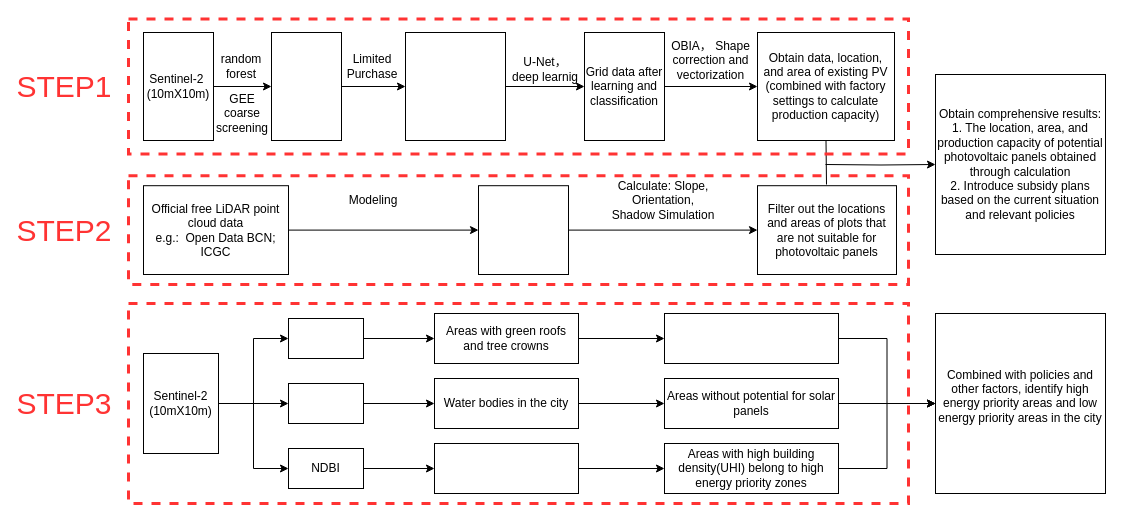
Image size: 1123x522. Some labels were removed from this diagram. The shapes that lost their labels are listed below. From the top down, each one's centre as x and y in pixels, then its label:
At (x=306, y=86): "Possible areas with PV".
At (x=455, y=86): "Fine commercial remote sensing data eg： Airbus Pléiades Neo (30 cm)".
At (x=523, y=229): "DEM modle".
At (x=326, y=338): "NDVI".
At (x=751, y=338): "Areas with high green distribution belong to low energy priority zones".
At (x=326, y=403): "NDWI".
At (x=506, y=468): "Distribution of building density in cities".
